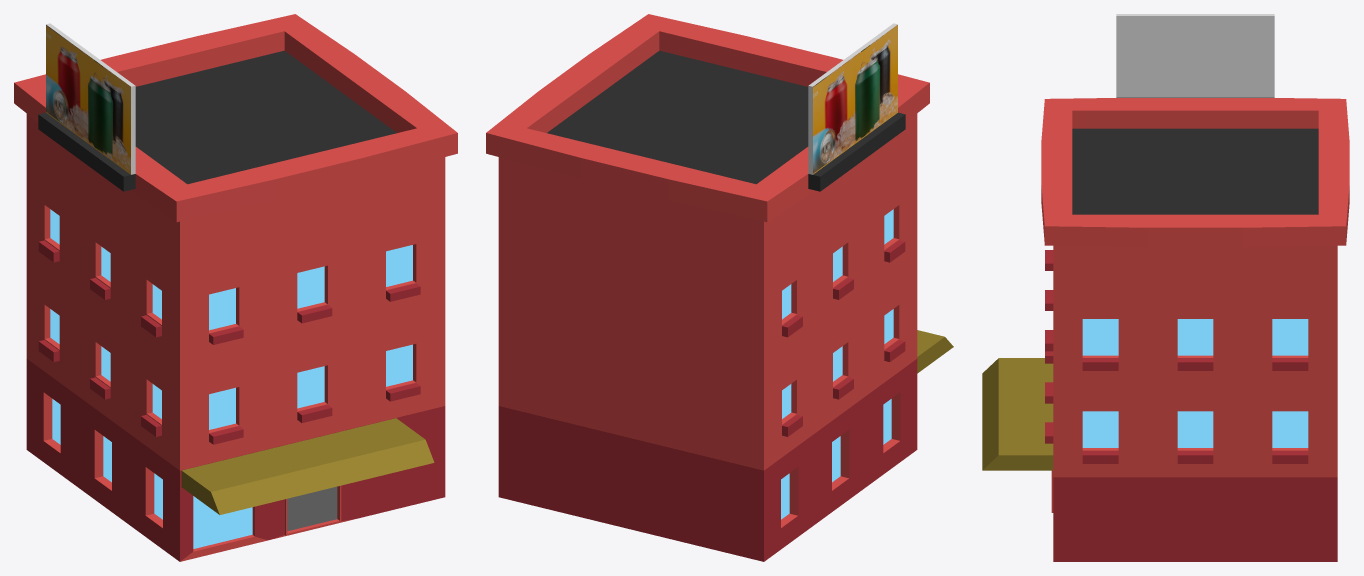
File: gedung1.glb
3 views of the same model, side by side, from view 1: azimuth 30°, elevation 25°; view 2: azimuth 150°, elevation 25°; view 3: azimuth 270°, elevation 25° (orthographic). The views are drawn at different scales.
Visible parts, largest first — view 1: Plane; view 2: Plane; view 3: Plane.
Part boxes in pixels (box(x1,y1,x2,y2)): Plane: box(14, 14, 457, 561); Plane: box(486, 14, 953, 561); Plane: box(982, 14, 1349, 561).
Size of the model in its own units: 4.26 by 6.18 by 4.89.
8 materials, 1 textured.
